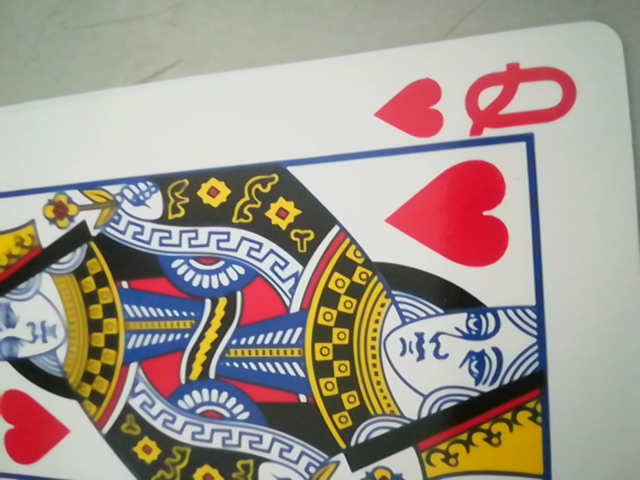hx q: (376, 56, 581, 144)
